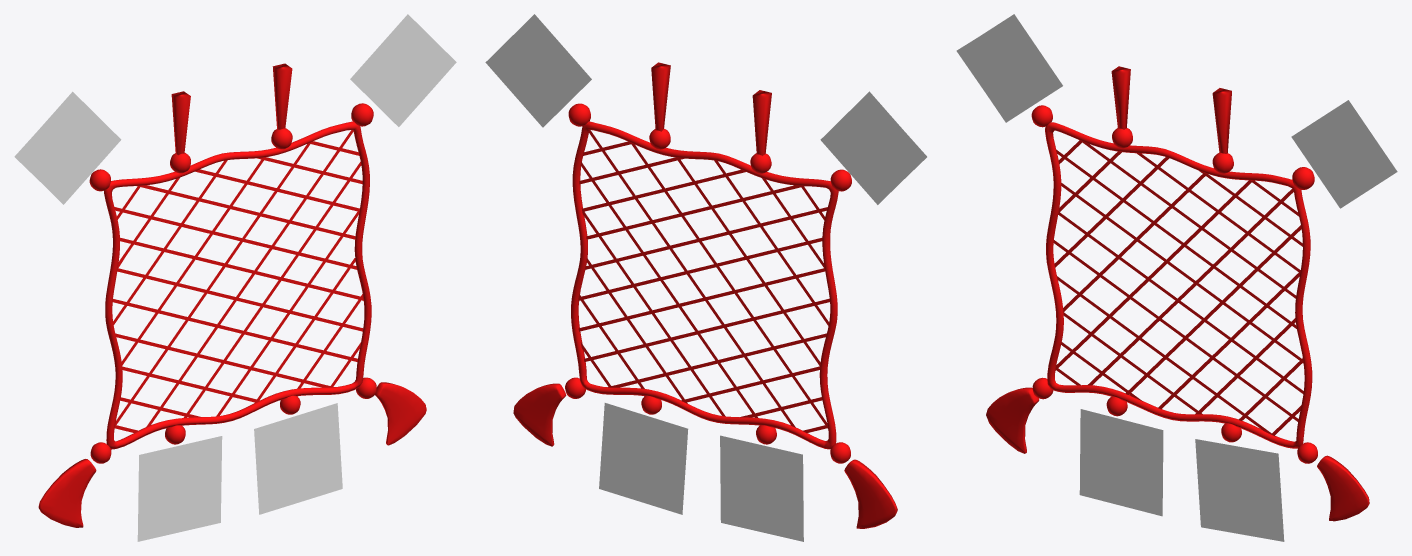
The model's file is filet_sedna_low.fbx.
3 renders of one model, left to right at view 1: azimuth 30°, elevation 25°; view 2: azimuth 150°, elevation 25°; view 3: azimuth 330°, elevation 25°, orthographic.
Visible parts, largest first — view 1: decs_up_low, grid_low, base_low, nag_low, dec_low, dec_02_low; view 2: decs_up_low, grid_low, base_low, nag_low, dec_low, dec_02_low; view 3: decs_up_low, grid_low, base_low, nag_low, dec_low, dec_02_low.
Part boxes in pixels (x1,y1,x2,y2): decs_up_low: (14,14,456,541); grid_low: (112,130,363,433); base_low: (104,121,371,449); nag_low: (38,382,426,527); dec_low: (89,103,376,463); dec_02_low: (171,63,292,155); decs_up_low: (485,14,926,541); grid_low: (578,130,829,433); base_low: (571,121,838,449); nag_low: (513,383,897,528); dec_low: (565,103,851,463); dec_02_low: (651,62,771,155); decs_up_low: (956,14,1397,541); grid_low: (1053,140,1303,436); base_low: (1045,122,1312,448); nag_low: (986,387,1369,521); dec_low: (1031,105,1317,463); dec_02_low: (1111,66,1231,153).
Size of the model in its own units: 1.45 by 1.47 by 0.0653.
